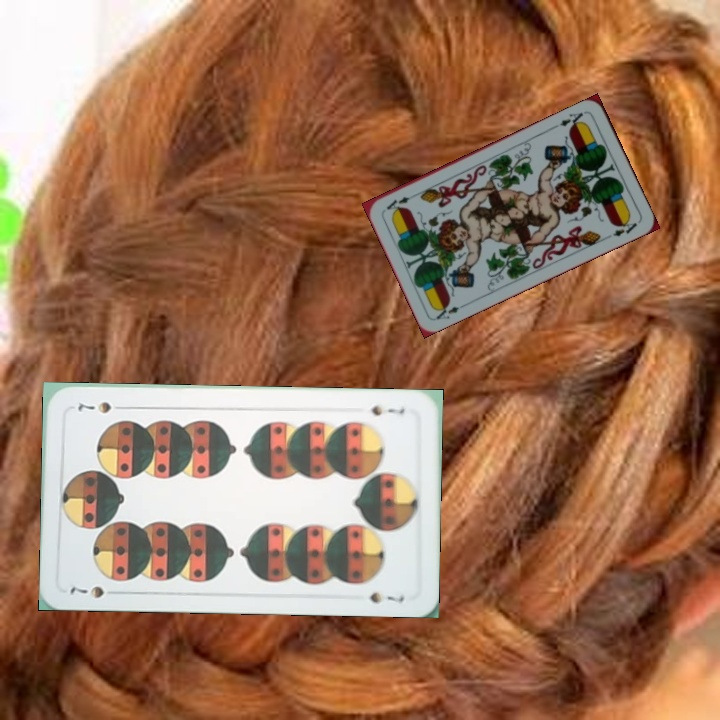EA: (431, 299, 470, 322), (556, 107, 588, 132)
S7: (66, 582, 123, 601), (363, 401, 407, 418)
